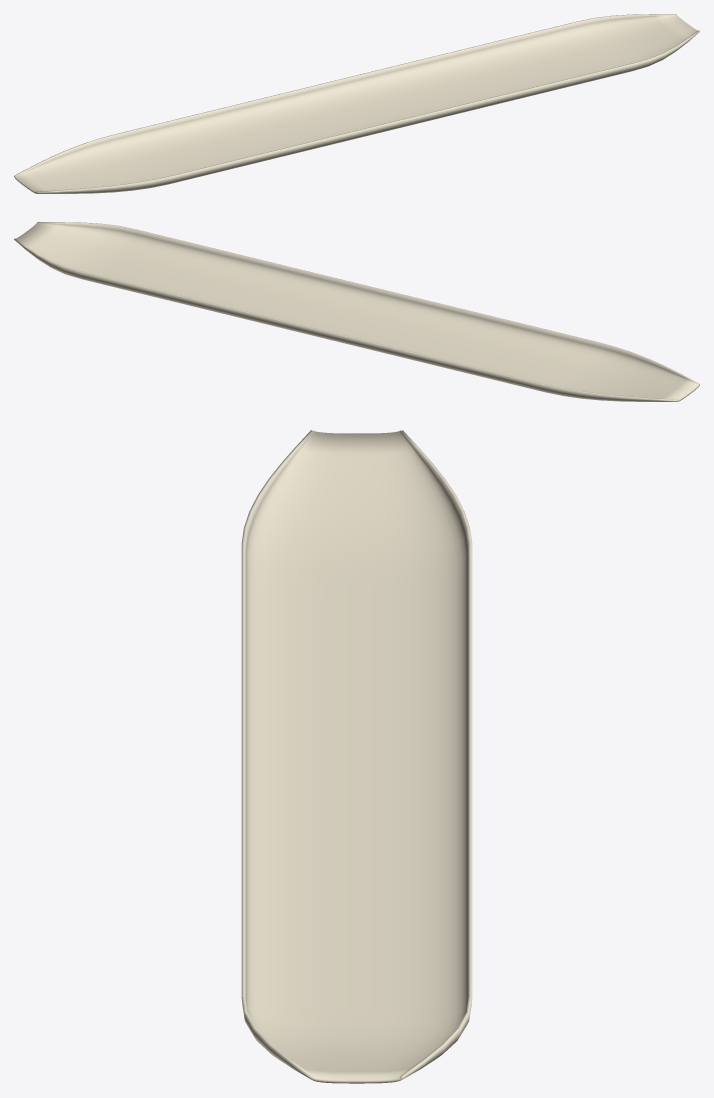
File: kestrel_keel.glb
3 views of the same model, one above another, from view 1: azimuth 30°, elevation 25°; view 2: azimuth 150°, elevation 25°; view 3: azimuth 270°, elevation 25° (orthographic). The views are drawn at different scales.
Visible parts, largest first — view 1: keel; view 2: keel; view 3: keel.
Part boxes in pixels (x1,y1,x2,y2): keel: [14, 14, 699, 193]; keel: [14, 222, 699, 401]; keel: [241, 430, 472, 1083].
Size of the model in its own units: 25.2 by 0.5588 by 3.8.
